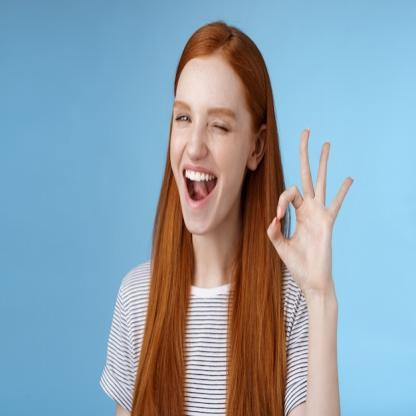ok: (264, 127, 366, 309)
